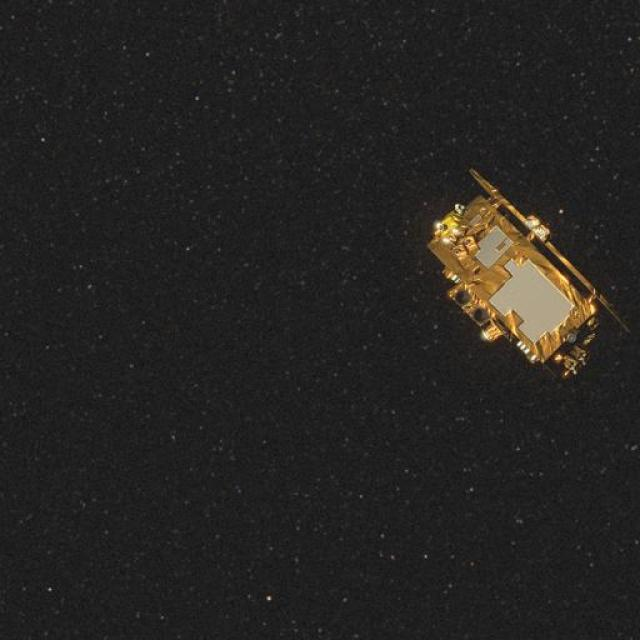lisa_pathfinder: (391, 147, 634, 400)
